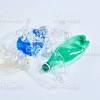BIODEGRADABLE: (37, 32, 90, 76)
